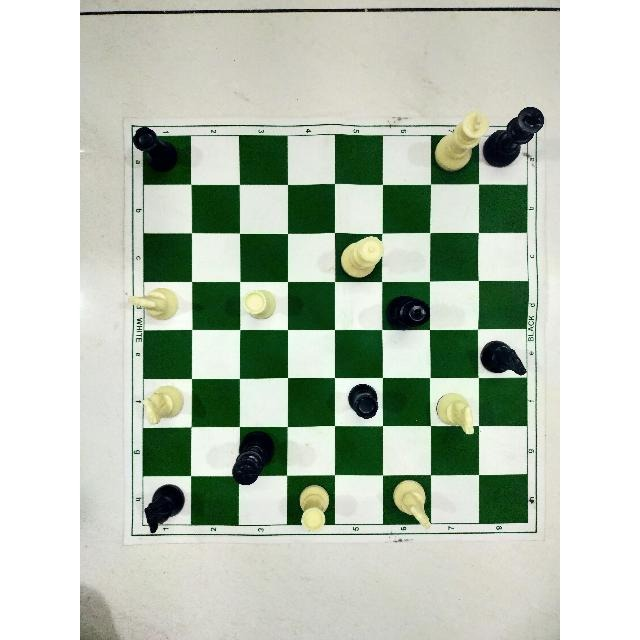black-king: (486, 105, 546, 174), (228, 431, 275, 492)
black-knight: (478, 336, 529, 382), (140, 482, 184, 534)
black-queen: (386, 293, 428, 334)
black-rook: (132, 127, 175, 175), (347, 382, 379, 421)
white-king: (432, 107, 490, 172)
white-knight: (126, 281, 181, 328), (391, 476, 434, 532), (436, 390, 480, 442), (143, 387, 183, 431)
white-queen: (338, 236, 388, 283)
white-rook: (294, 482, 329, 533), (243, 286, 277, 324)
